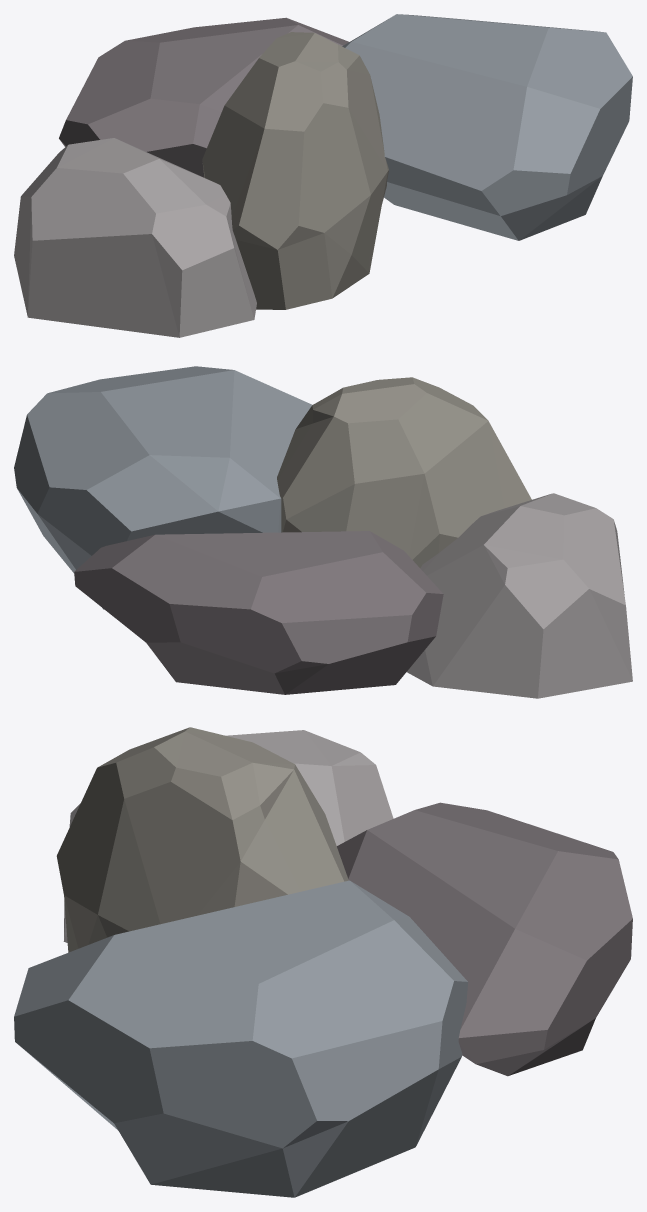
Rendered from Rocks_Round_m_03.fbx.
3 renders of one model, top to bottom at view 1: azimuth 30°, elevation 25°; view 2: azimuth 150°, elevation 25°; view 3: azimuth 270°, elevation 25°, orthographic. The views are drawn at different scales.
Parts seen in each view (by area): view 1: Rocks_Round_m_03; view 2: Rocks_Round_m_03; view 3: Rocks_Round_m_03.
Boxes of the visible parts, x1,y1,x2,y2 form: Rocks_Round_m_03: [14, 14, 632, 337]; Rocks_Round_m_03: [14, 366, 632, 698]; Rocks_Round_m_03: [14, 727, 632, 1197].
Size of the model in its own units: 2.29 by 0.8219 by 1.6.
